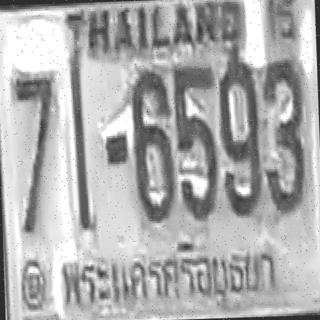N00: (217, 55, 261, 212)
N03: (260, 56, 308, 210)
N05: (172, 63, 217, 218)
N06: (129, 68, 176, 220)
N07: (11, 67, 60, 229), (11, 66, 58, 187)
N09: (217, 55, 262, 214)
P03: (52, 236, 286, 315)
